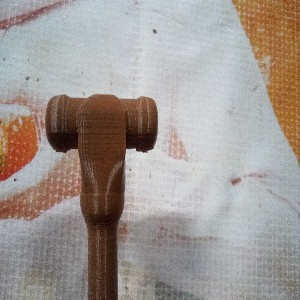palu: (44, 92, 159, 300)
